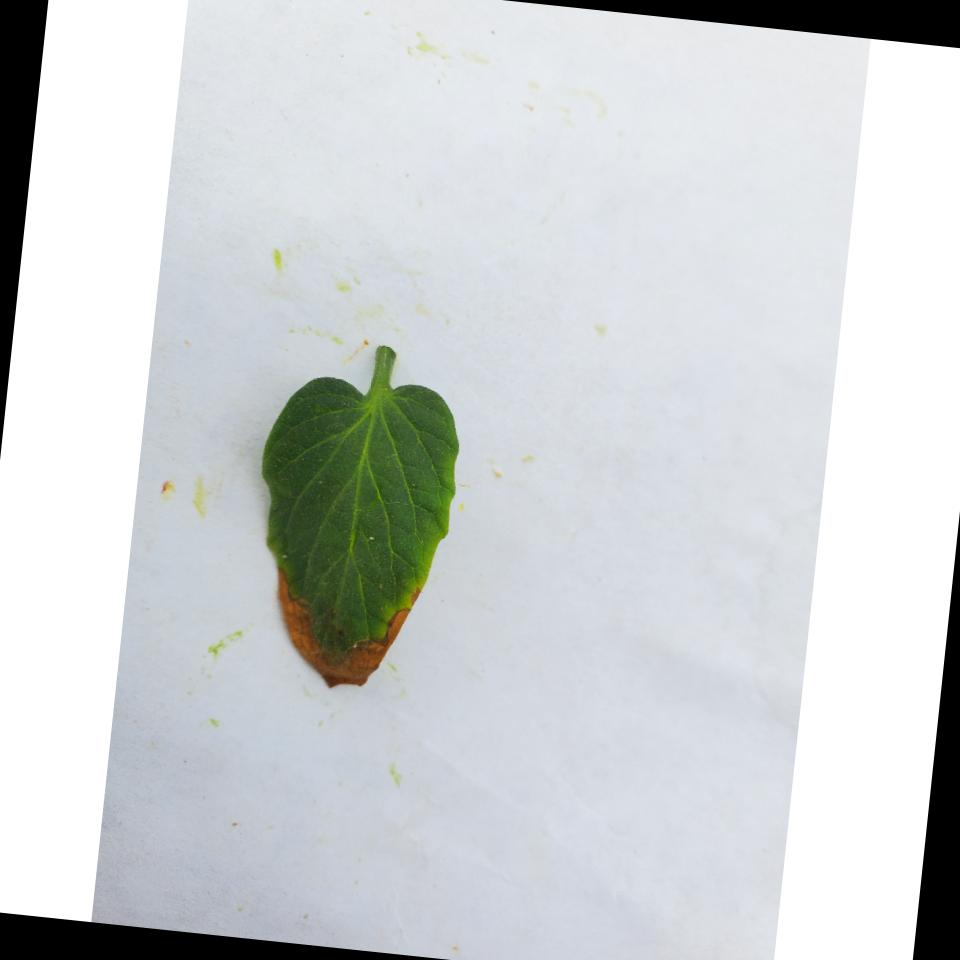tomato_bacterial_blight: (230, 355, 476, 710)
